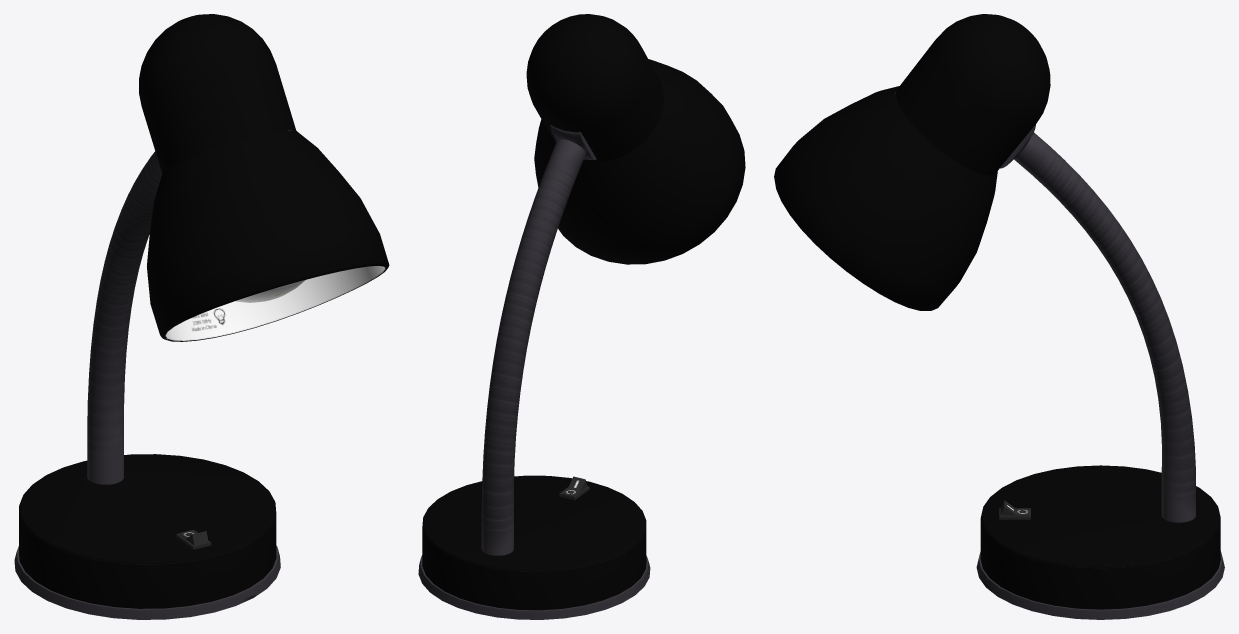
3 renders of one model, left to right at view 1: azimuth 30°, elevation 25°; view 2: azimuth 150°, elevation 25°; view 3: azimuth 270°, elevation 25°, orthographic. The views are drawn at different scales.
Parts seen in each view (by area): view 1: TableLampLow; view 2: TableLampLow; view 3: TableLampLow.
Part boxes in pixels (x1,y1,x2,y2): TableLampLow: [14, 14, 389, 619]; TableLampLow: [418, 14, 745, 619]; TableLampLow: [774, 14, 1224, 619].
Size of the model in its own units: 0.8223 by 2 by 1.49.
1 material, 1 textured.
